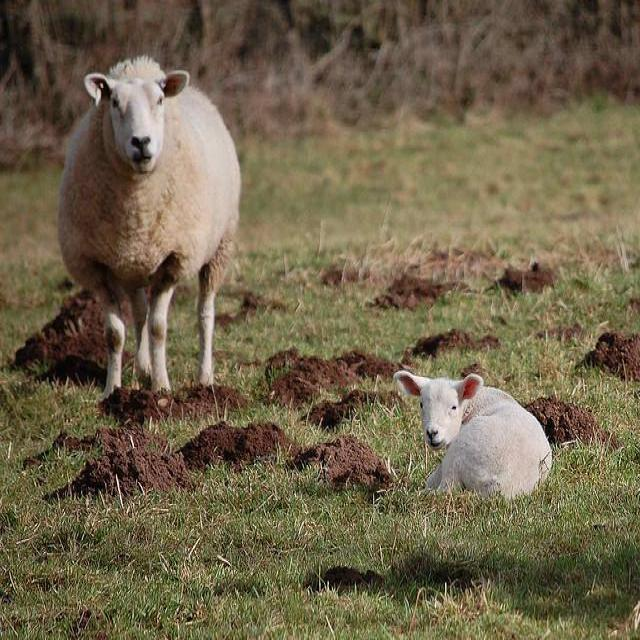Sheep: (54, 50, 243, 398), (394, 372, 552, 499)
